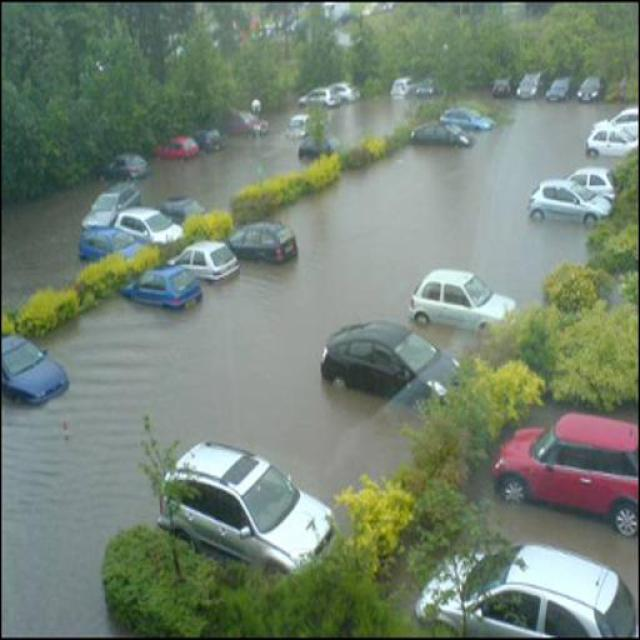puddle: (77, 319, 327, 458), (3, 416, 130, 640), (318, 168, 527, 272), (242, 270, 368, 335), (12, 199, 78, 314), (505, 100, 568, 199), (199, 152, 270, 211)
